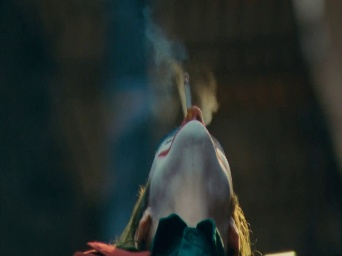smoke: (184, 70, 195, 120)
